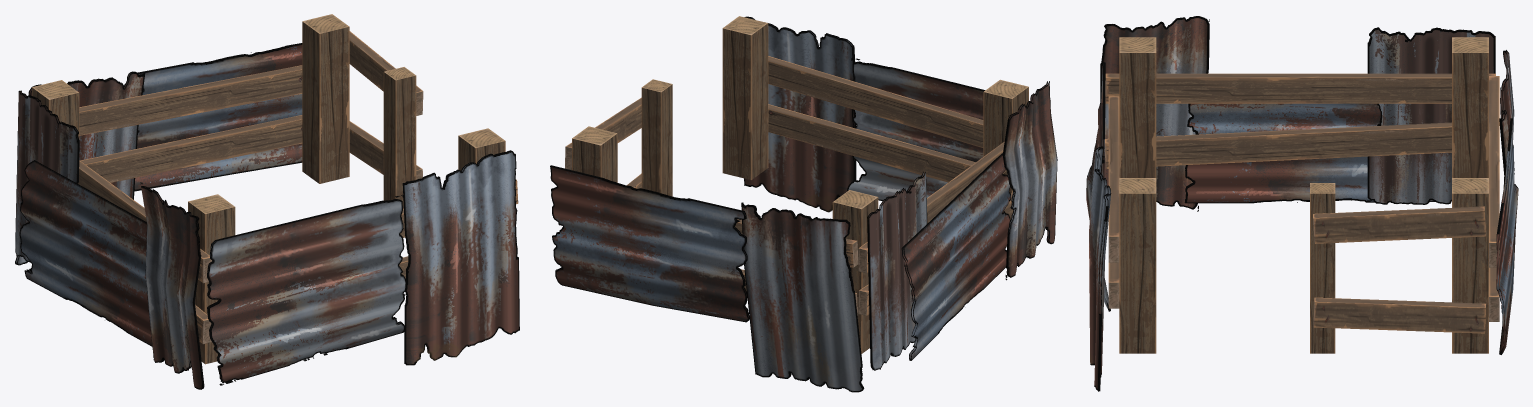
Rendered from tower_middle_C.fbx.
3 renders of one model, left to right at view 1: azimuth 30°, elevation 25°; view 2: azimuth 150°, elevation 25°; view 3: azimuth 270°, elevation 25°, orthographic. The views are drawn at different scales.
Visible parts, largest first — view 1: tower_middle_C; view 2: tower_middle_C; view 3: tower_middle_C.
Boxes of the visible parts, x1=… form: tower_middle_C: x1=15, y1=14, x2=519, y2=389; tower_middle_C: x1=550, y1=16, x2=1057, y2=392; tower_middle_C: x1=1086, y1=16, x2=1518, y2=391.
Bounding box in the file's own units: 355 × 193 × 351.
